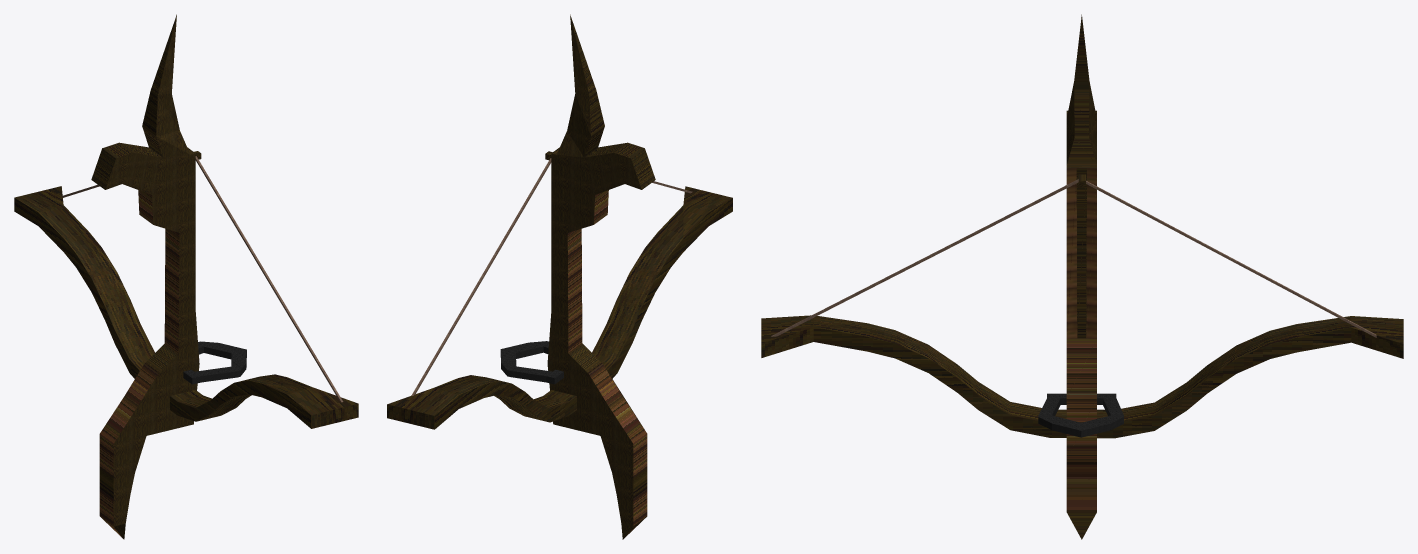
3 views of the same model, side by side, from view 1: azimuth 30°, elevation 25°; view 2: azimuth 150°, elevation 25°; view 3: azimuth 270°, elevation 25° (orthographic). The views are drawn at different scales.
Parts seen in each view (by area): view 1: it199; view 2: it199; view 3: it199.
Part boxes in pixels (x1,y1,x2,y2): it199: (14, 14, 358, 539); it199: (387, 14, 732, 539); it199: (761, 14, 1403, 539).
Size of the model in its own units: 0.9128 by 3.02 by 3.17.
Materials: 4 (4 with a texture image).
